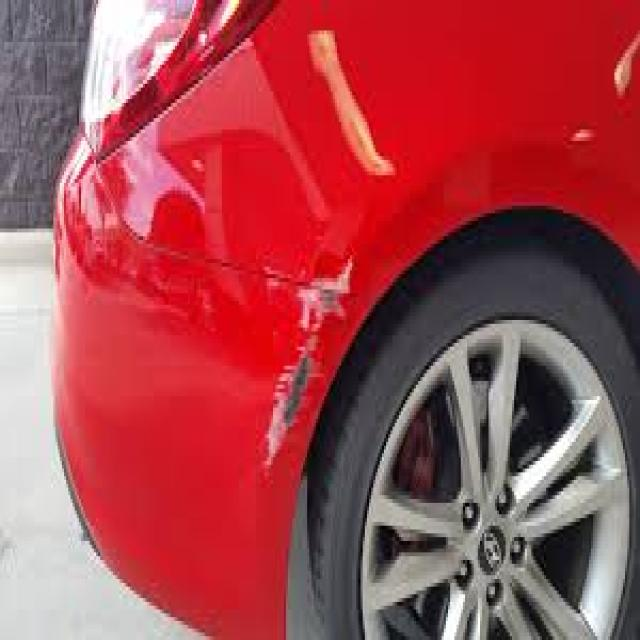Scratch: (256, 244, 367, 472)
